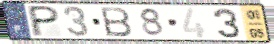3: (62, 5, 91, 39), (212, 7, 242, 39)
4: (181, 6, 209, 39)
8: (139, 7, 166, 38)
B: (98, 6, 134, 38)
P: (28, 4, 61, 38)
